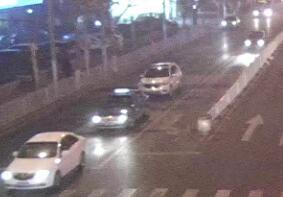car: (1, 128, 92, 195), (89, 85, 150, 130), (138, 59, 186, 98), (242, 26, 270, 51), (249, 0, 278, 20), (217, 12, 243, 32)
